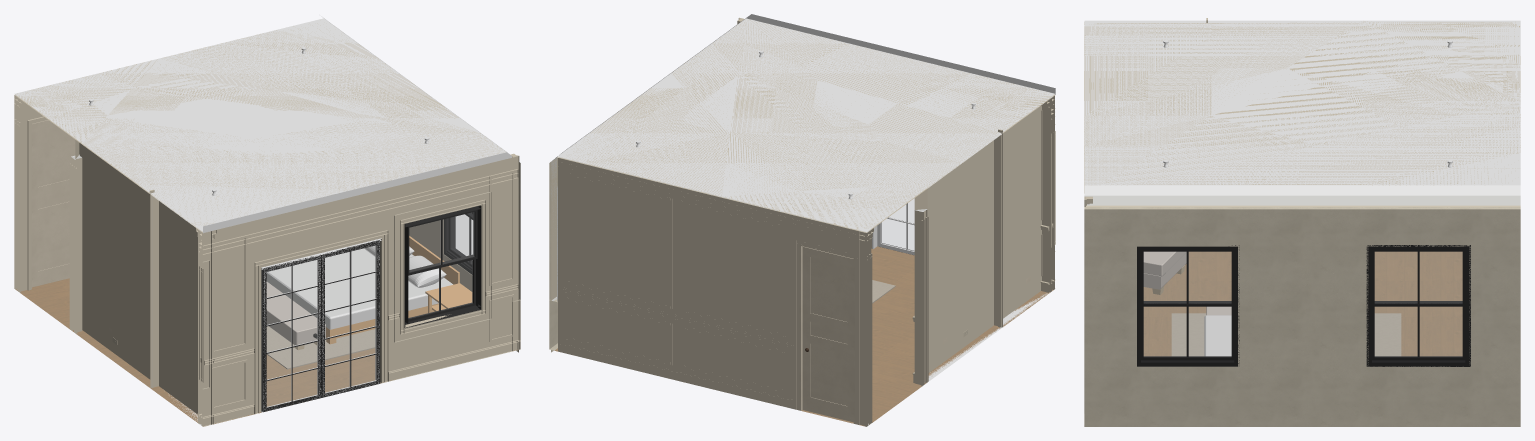
File: primary-bedroom-18a003bf1d67.glb
The picture shows the model from 3 angles, left to right: view 1: azimuth 30°, elevation 25°; view 2: azimuth 150°, elevation 25°; view 3: azimuth 270°, elevation 25°; orthographic projection. The views are drawn at different scales.
Parts seen in each view (by area): view 1: primary-bedroom-9d91b47435c6fb33, primary-bedroom-b0ade14315e4f1c3, primary-bedroom-e8793759323e04f0, primary-bedroom-0987656e6ddb83c1, primary-bedroom-fc6585fecfaf7ec3, primary-bedroom-e1735639a83d20d7, primary-bedroom-1e1f2f1a00880bfa, primary-bedroom-c791a0f218fead78, primary-bedroom-b7a870a0f6b43c8c, primary-bedroom-2575515a05775d9e, primary-bedroom-b5339e4b2b15762b, primary-bedroom-21ac2ed1b4475155 (+17 smaller); view 2: primary-bedroom-9d91b47435c6fb33, primary-bedroom-21ac2ed1b4475155, primary-bedroom-e8793759323e04f0, primary-bedroom-fc6585fecfaf7ec3, primary-bedroom-b7a870a0f6b43c8c, primary-bedroom-c791a0f218fead78, primary-bedroom-2575515a05775d9e, primary-bedroom-b0ade14315e4f1c3, primary-bedroom-9ecc0d558be1c706, primary-bedroom-0987656e6ddb83c1, primary-bedroom-780708765654f3c3, primary-bedroom-30f9d475162e2dd8 (+2 smaller); view 3: primary-bedroom-9d91b47435c6fb33, primary-bedroom-adb6f49a6d2cbec3, primary-bedroom-e8793759323e04f0, primary-bedroom-16d9002bc6318568, primary-bedroom-2575515a05775d9e, primary-bedroom-91f952a1d198b4a4, primary-bedroom-f5a37a5545b9d676, primary-bedroom-791abe15be22adf2, primary-bedroom-b0dbeb16b2b245ed, primary-bedroom-a05c251c2321b5d0, primary-bedroom-1e1f2f1a00880bfa, primary-bedroom-30f9d475162e2dd8.
Boxes of the visible parts, left/top/right/bottom form: primary-bedroom-9d91b47435c6fb33: left=14, top=18, right=511, bottom=232; primary-bedroom-b0ade14315e4f1c3: left=198, top=155, right=519, bottom=426; primary-bedroom-e8793759323e04f0: left=17, top=16, right=511, bottom=231; primary-bedroom-0987656e6ddb83c1: left=261, top=238, right=381, bottom=412; primary-bedroom-fc6585fecfaf7ec3: left=75, top=140, right=158, bottom=387; primary-bedroom-e1735639a83d20d7: left=404, top=205, right=481, bottom=328; primary-bedroom-1e1f2f1a00880bfa: left=266, top=236, right=459, bottom=344; primary-bedroom-c791a0f218fead78: left=151, top=194, right=211, bottom=425; primary-bedroom-b7a870a0f6b43c8c: left=32, top=120, right=75, bottom=287; primary-bedroom-2575515a05775d9e: left=15, top=278, right=518, bottom=426; primary-bedroom-b5339e4b2b15762b: left=202, top=169, right=518, bottom=254; primary-bedroom-21ac2ed1b4475155: left=14, top=95, right=43, bottom=291; primary-bedroom-9d91b47435c6fb33: left=557, top=18, right=1055, bottom=232; primary-bedroom-21ac2ed1b4475155: left=558, top=157, right=871, bottom=426; primary-bedroom-e8793759323e04f0: left=561, top=14, right=1055, bottom=229; primary-bedroom-fc6585fecfaf7ec3: left=914, top=134, right=1002, bottom=382; primary-bedroom-b7a870a0f6b43c8c: left=802, top=246, right=853, bottom=422; primary-bedroom-c791a0f218fead78: left=994, top=95, right=1054, bottom=327; primary-bedroom-2575515a05775d9e: left=551, top=246, right=1053, bottom=426; primary-bedroom-b0ade14315e4f1c3: left=738, top=17, right=1054, bottom=292; primary-bedroom-9ecc0d558be1c706: left=914, top=209, right=927, bottom=384; primary-bedroom-0987656e6ddb83c1: left=872, top=199, right=914, bottom=255; primary-bedroom-780708765654f3c3: left=799, top=244, right=854, bottom=423; primary-bedroom-30f9d475162e2dd8: left=550, top=158, right=556, bottom=300; primary-bedroom-9d91b47435c6fb33: left=1084, top=20, right=1520, bottom=195; primary-bedroom-adb6f49a6d2cbec3: left=1084, top=207, right=1520, bottom=367; primary-bedroom-e8793759323e04f0: left=1084, top=21, right=1520, bottom=194; primary-bedroom-16d9002bc6318568: left=1086, top=367, right=1520, bottom=424; primary-bedroom-2575515a05775d9e: left=1084, top=251, right=1520, bottom=426; primary-bedroom-91f952a1d198b4a4: left=1366, top=245, right=1470, bottom=366; primary-bedroom-f5a37a5545b9d676: left=1137, top=245, right=1239, bottom=366; primary-bedroom-791abe15be22adf2: left=1084, top=195, right=1520, bottom=205; primary-bedroom-b0dbeb16b2b245ed: left=1171, top=313, right=1401, bottom=356; primary-bedroom-a05c251c2321b5d0: left=1143, top=251, right=1186, bottom=294; primary-bedroom-1e1f2f1a00880bfa: left=1204, top=315, right=1231, bottom=356; primary-bedroom-30f9d475162e2dd8: left=1086, top=205, right=1520, bottom=206.
Bounding box in the file's own units: 4.97 × 3.04 × 5.11.
29 materials, 5 textured.
